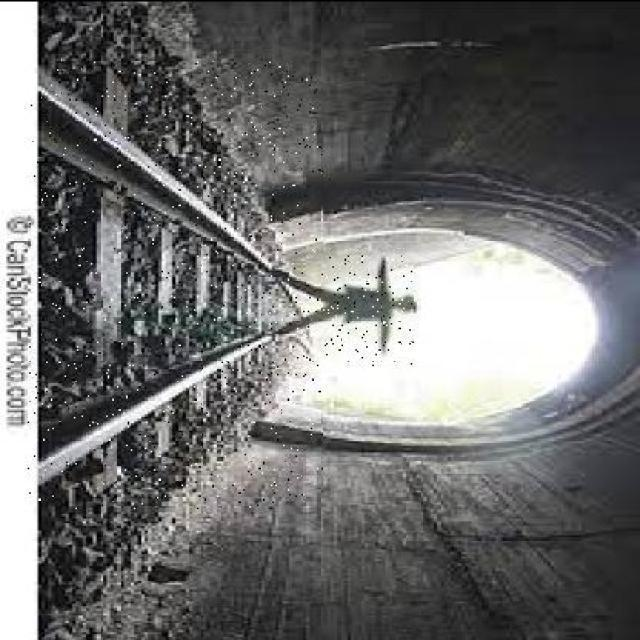rail: (29, 59, 324, 509)
